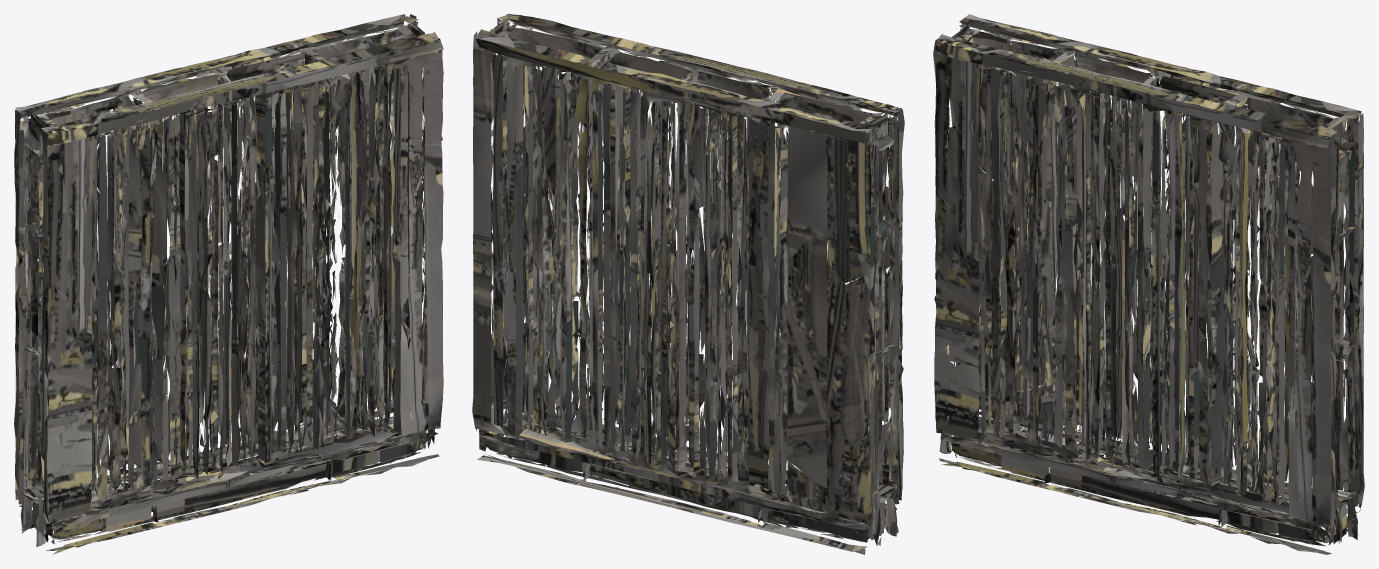
Rendered from Env_MetalWall_4m.fbx.
3 renders of one model, left to right at view 1: azimuth 30°, elevation 25°; view 2: azimuth 150°, elevation 25°; view 3: azimuth 330°, elevation 25°, orthographic.
Visible parts, largest first — view 1: texture_mapping; view 2: texture_mapping; view 3: texture_mapping.
Part boxes in pixels (bbox=[...]): texture_mapping: bbox=[14, 14, 443, 554]; texture_mapping: bbox=[472, 14, 904, 554]; texture_mapping: bbox=[933, 14, 1364, 554].
Size of the model in its own units: 1 by 1.01 by 0.1638.
